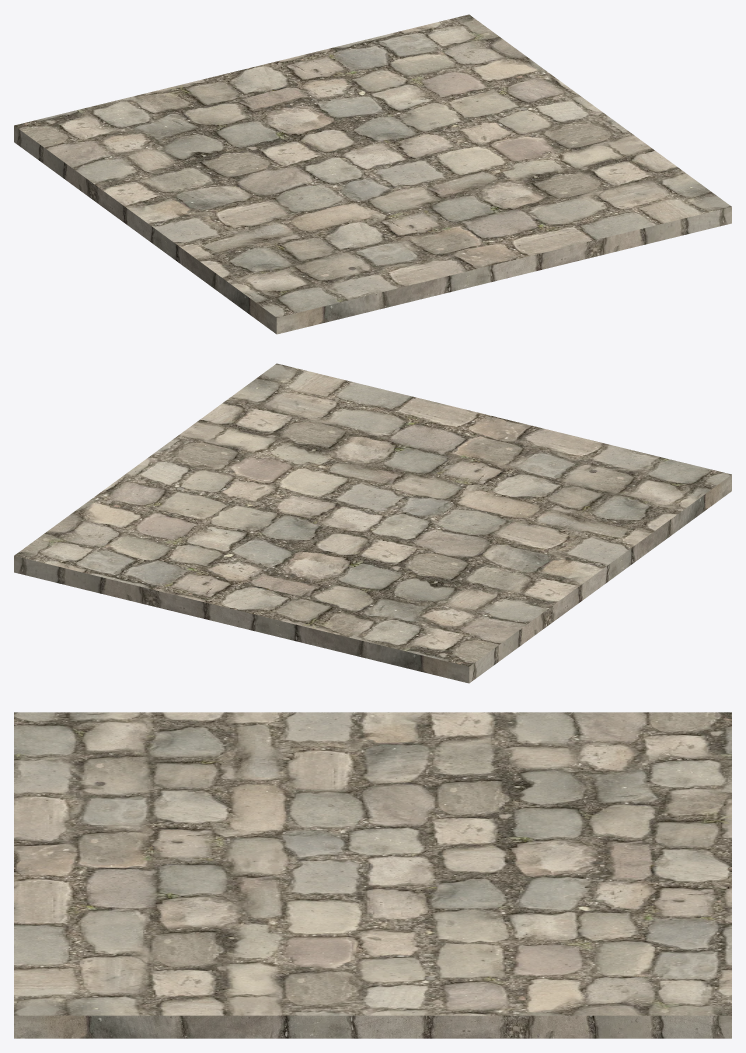
The model's file is infra_tile_t1_road.glb.
The picture shows the model from 3 angles, top to bottom: view 1: azimuth 30°, elevation 25°; view 2: azimuth 150°, elevation 25°; view 3: azimuth 270°, elevation 25°; orthographic projection. The views are drawn at different scales.
Visible parts, largest first — view 1: road; view 2: road; view 3: road.
Part boxes in pixels (x1,y1,x2,y2): road: (14, 14, 731, 334); road: (14, 363, 731, 683); road: (14, 712, 731, 1038).
Bounding box in the file's own units: 2 × 0.07 × 2.
Materials: 1 (1 with a texture image).
